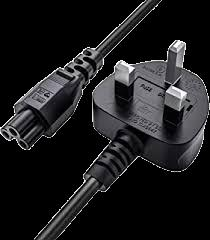cable: (35, 40, 209, 240), (1, 0, 162, 150)
